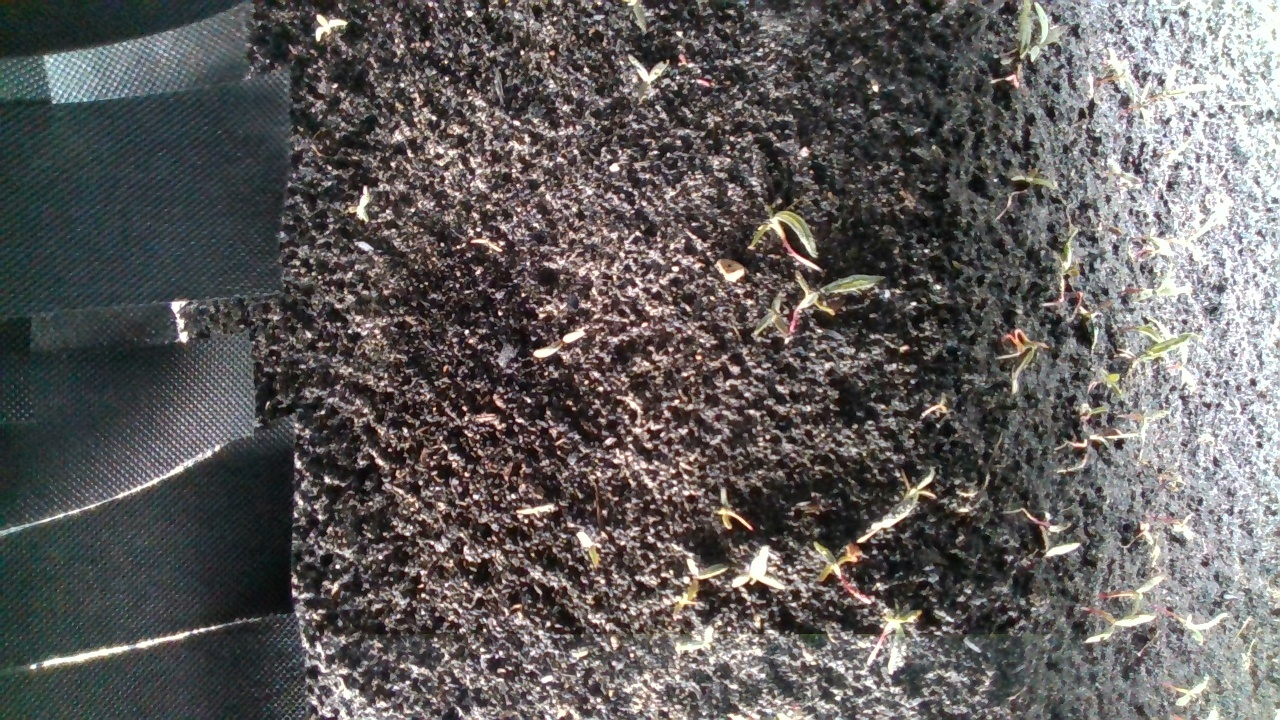weed: (570, 529, 615, 578), (709, 489, 752, 538), (537, 329, 582, 360), (297, 13, 344, 40), (349, 192, 377, 222)
